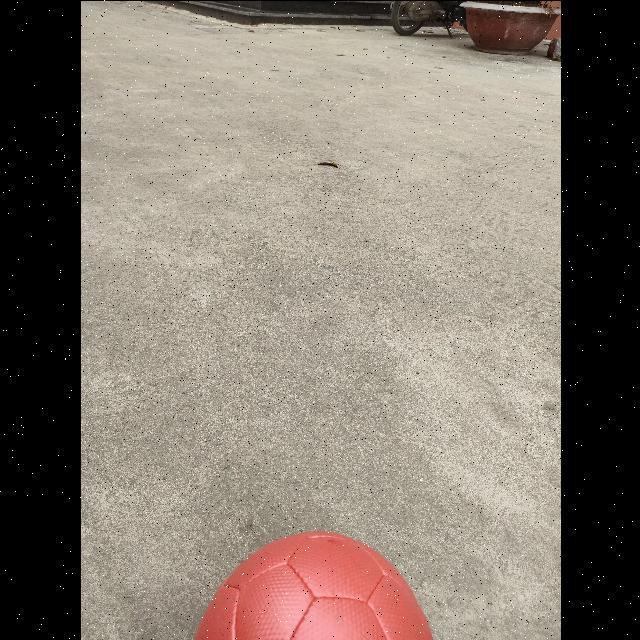R: (188, 530, 436, 640)
